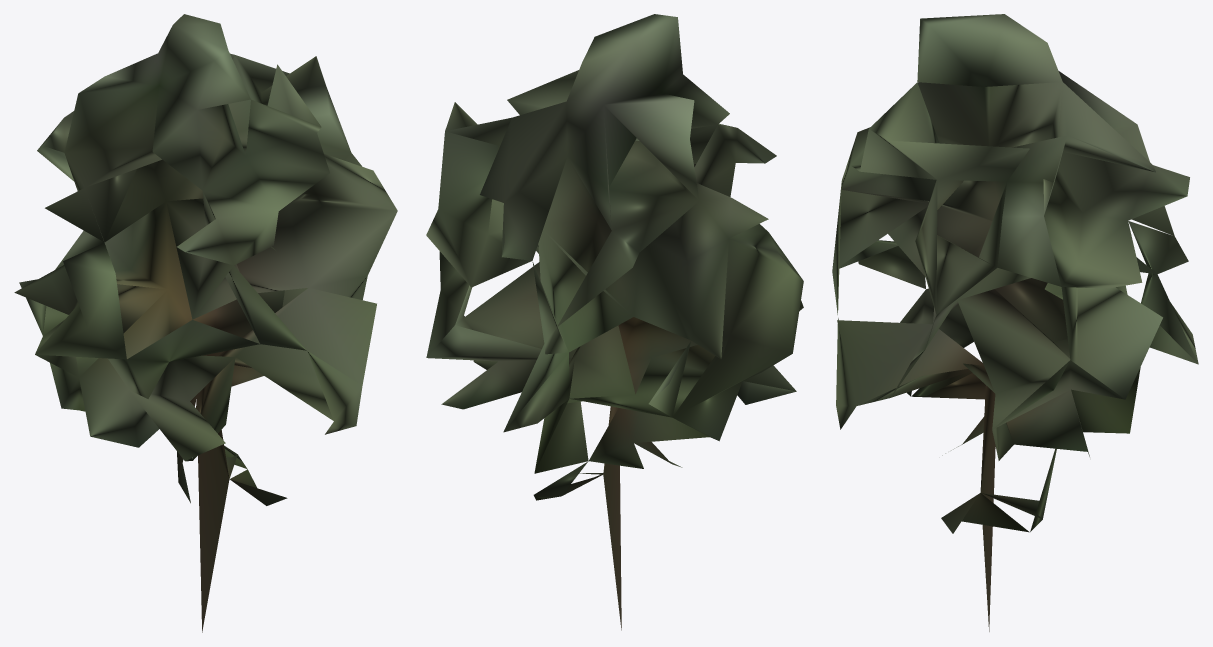
File: oak_far.glb
The picture shows the model from 3 angles, left to right: view 1: azimuth 30°, elevation 25°; view 2: azimuth 150°, elevation 25°; view 3: azimuth 270°, elevation 25°; orthographic projection.
Visible parts, largest first — view 1: oak; view 2: oak; view 3: oak.
Part boxes in pixels (x1,y1,x2,y2): oak: (14,14,397,632); oak: (426,14,803,630); oak: (832,14,1198,631).
Bounding box in the file's own units: 0.5846 × 1 × 0.5458.
